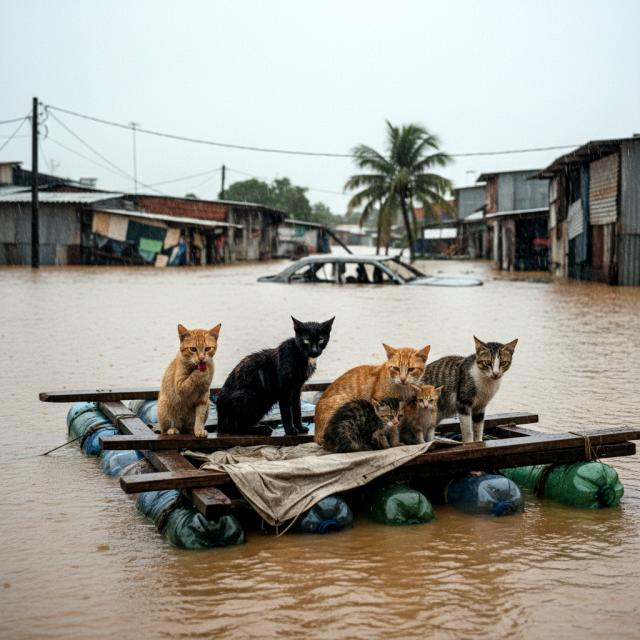cat: (302, 324, 436, 459), (217, 306, 330, 440), (414, 327, 524, 449), (132, 311, 232, 438), (314, 396, 403, 456), (402, 381, 446, 445)
